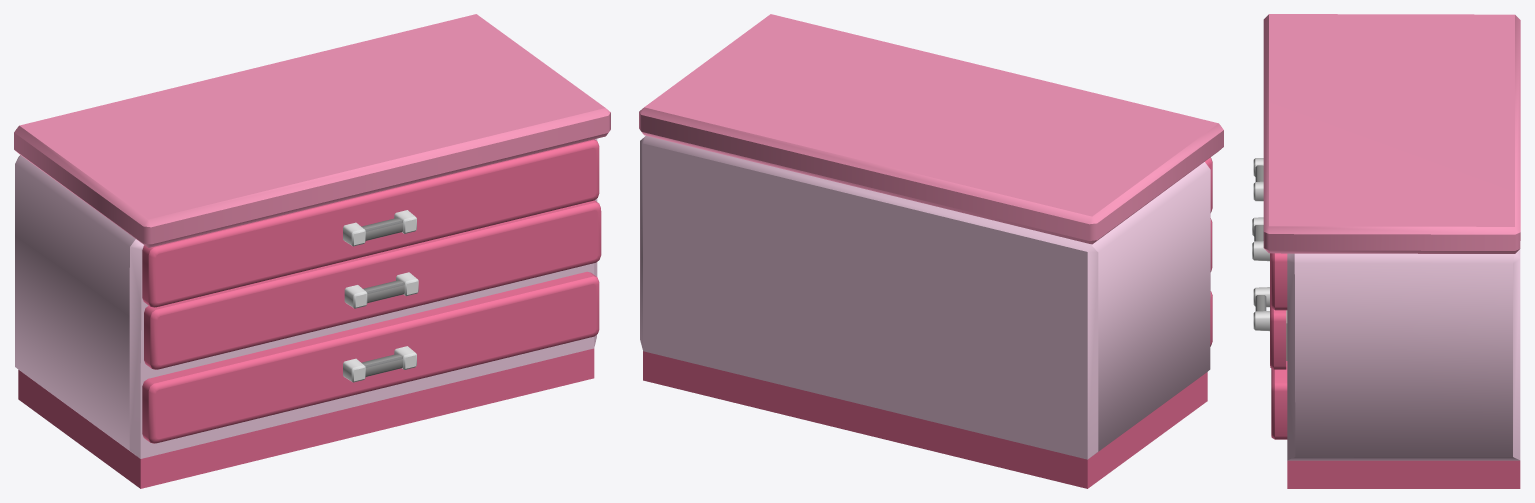
File: Furnit_F_7.glb
3 views of the same model, side by side, from view 1: azimuth 30°, elevation 25°; view 2: azimuth 150°, elevation 25°; view 3: azimuth 270°, elevation 25° (orthographic). The views are drawn at different scales.
Parts seen in each view (by area): view 1: Furnit_F_7; view 2: Furnit_F_7; view 3: Furnit_F_7.
Boxes of the visible parts, left/top/right/bottom form: Furnit_F_7: left=14, top=14, right=610, bottom=488; Furnit_F_7: left=639, top=14, right=1223, bottom=488; Furnit_F_7: left=1252, top=14, right=1520, bottom=488.
Size of the model in its own units: 1.8 by 1.02 by 0.9392.
Materials: 1 (1 with a texture image).
